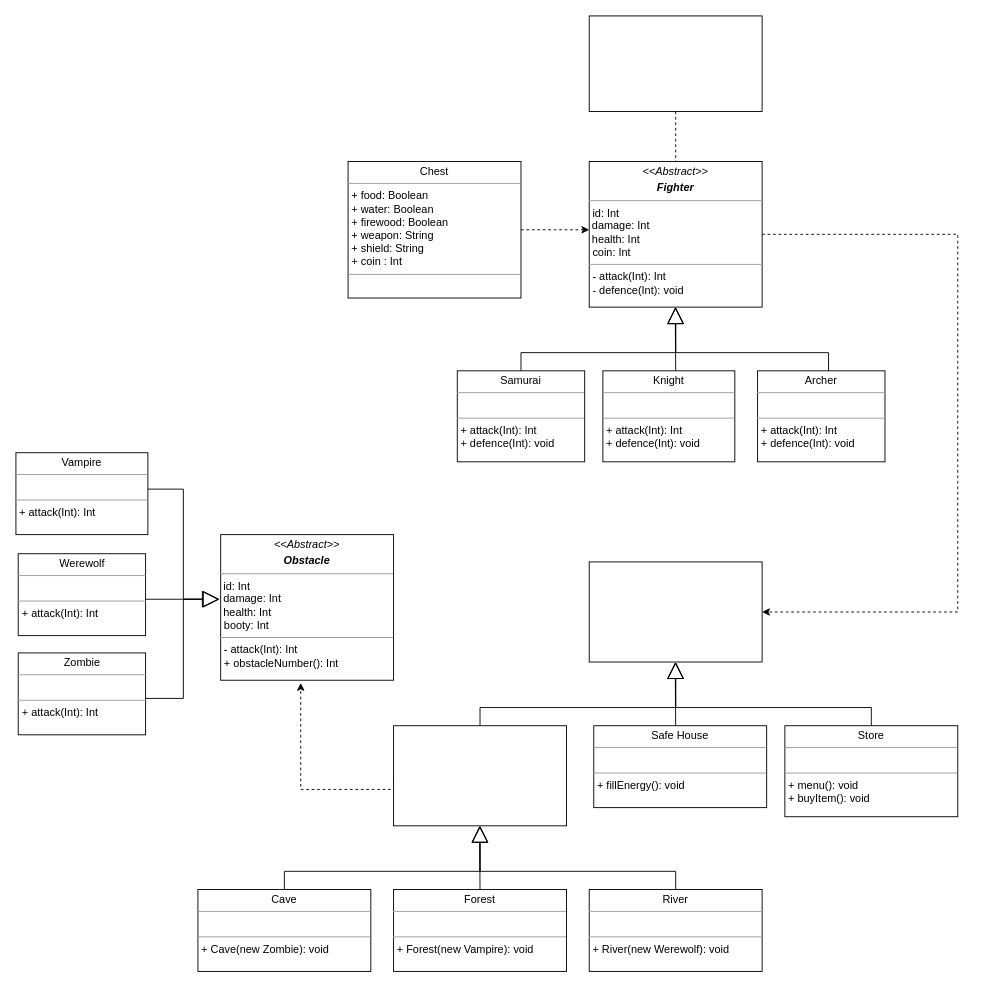
This 981x987 diagram has some shape labels left out. The box of each missing label's shape, as (x1, y1, x2, y2) in pixels:
<<Abstract>> Battle Area + combat(): Int: (393, 725, 566, 826)
<<Abstract>> Location - onLocation(): Boolean: (588, 561, 762, 662)
Game - player: Player - location: Location + start(): void: (588, 15, 762, 111)
